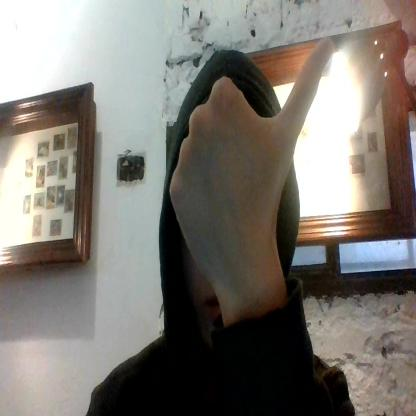left: (166, 33, 336, 254)
